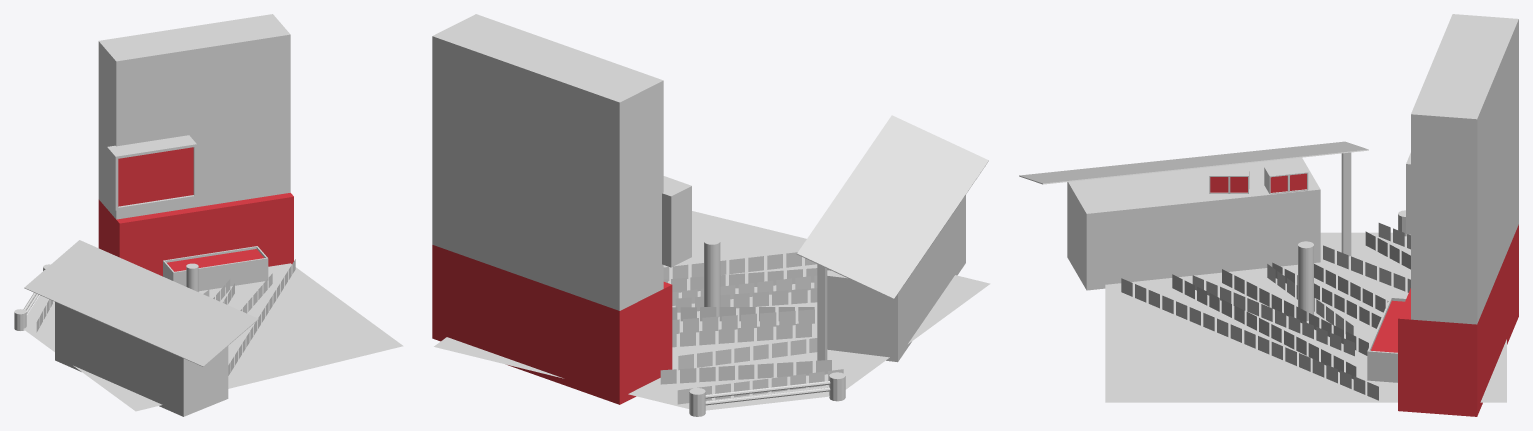
File: TRT_GraphicsTest.fbx
3 views of the same model, side by side, from view 1: azimuth 30°, elevation 25°; view 2: azimuth 150°, elevation 25°; view 3: azimuth 270°, elevation 25° (orthographic). The views are drawn at different scales.
Parts seen in each view (by area): view 1: Cube, Plane, Cube.004, Cube.001, Cube.003, Cube.002, Plane.009; view 2: Cube, Cube.004, Plane.009, Plane, Cube.001, Cube.003, Cylinder, Cube.005, Cylinder.003, Cylinder.004; view 3: Cube, Plane, Cube.001, Plane.009, Cube.004, Cube.002, Cube.006, Cylinder, Cube.008, Cube.005.
Part boxes in pixels (x1,y1,x2,y2): Cube: (98,14,293,276); Plane: (23,263,403,411); Cube.004: (24,240,258,366); Cube.001: (55,302,228,416); Cube.003: (107,135,196,210); Cube.002: (163,246,268,291); Plane.009: (36,259,295,375); Cube: (432,14,672,404); Cube.004: (796,115,988,299); Plane.009: (660,252,843,404); Plane: (434,211,990,410); Cube.001: (827,195,965,362); Cube.003: (662,176,691,267); Cylinder: (704,238,720,317); Cube.005: (817,264,827,360); Cylinder.003: (705,381,830,398); Cylinder.004: (705,387,830,405); Cube: (1398,14,1518,416); Plane: (1105,232,1506,402); Cube.001: (1067,157,1320,290); Plane.009: (1121,223,1410,400); Cube.004: (1019,141,1368,184); Cube.002: (1367,297,1406,382); Cube.006: (1264,163,1308,194); Cylinder: (1298,241,1313,320); Cube.008: (1209,166,1249,193); Cube.005: (1341,152,1351,256).
Size of the model in its own units: 5.59 by 5 by 6.22.
